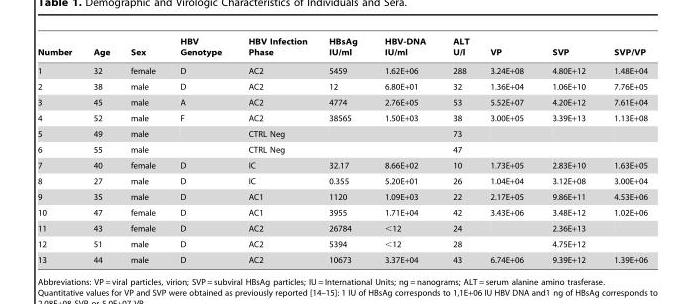table: (36, 36, 646, 264)
table column: (234, 36, 317, 264), (370, 36, 438, 264), (167, 36, 234, 264), (537, 36, 599, 264), (479, 36, 537, 264), (317, 36, 370, 264), (119, 36, 167, 264), (599, 36, 646, 264), (36, 36, 82, 264), (438, 36, 479, 264), (82, 36, 119, 264)
table column header: (36, 36, 646, 60)
table row: (36, 36, 646, 60), (36, 60, 646, 77), (36, 109, 646, 126), (36, 77, 646, 93), (36, 93, 646, 109), (36, 156, 646, 172), (36, 187, 646, 203), (36, 203, 646, 219), (36, 219, 646, 235), (36, 126, 646, 141), (36, 141, 646, 156), (36, 172, 646, 187), (36, 235, 646, 250), (36, 250, 646, 264)
